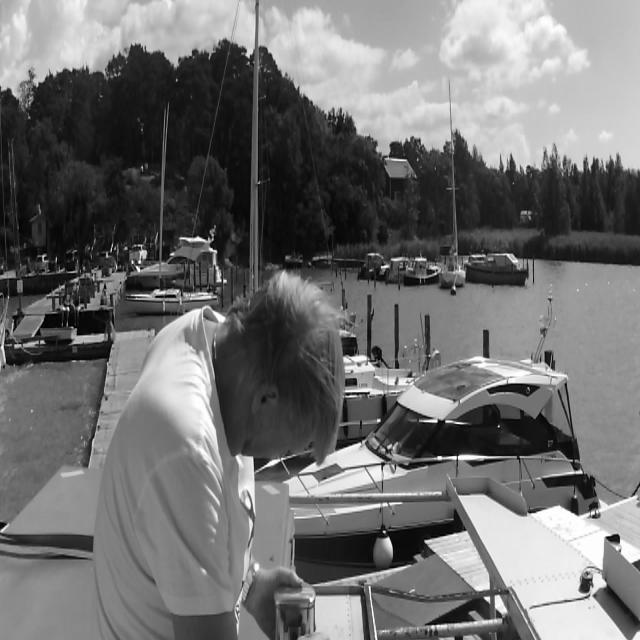ship: (320, 304, 602, 563), (126, 235, 227, 288), (442, 85, 468, 286), (468, 248, 528, 286), (405, 258, 440, 290), (381, 256, 405, 282), (361, 250, 381, 276)
